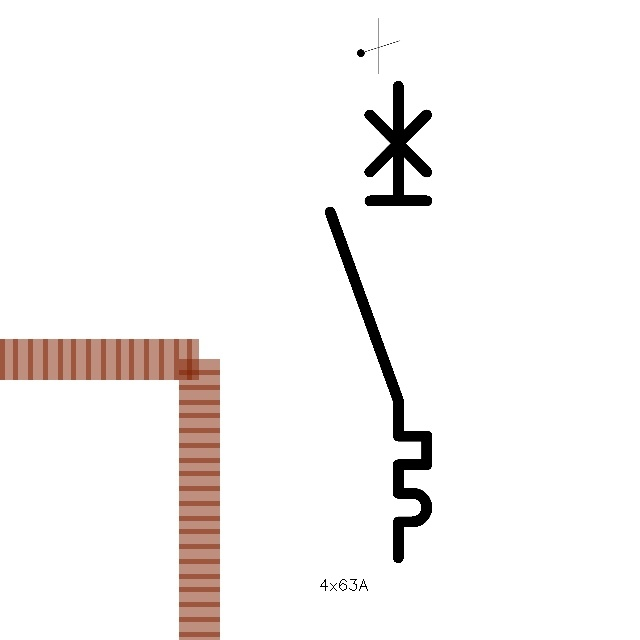interruptor_termomagnetico: (318, 74, 439, 570)
